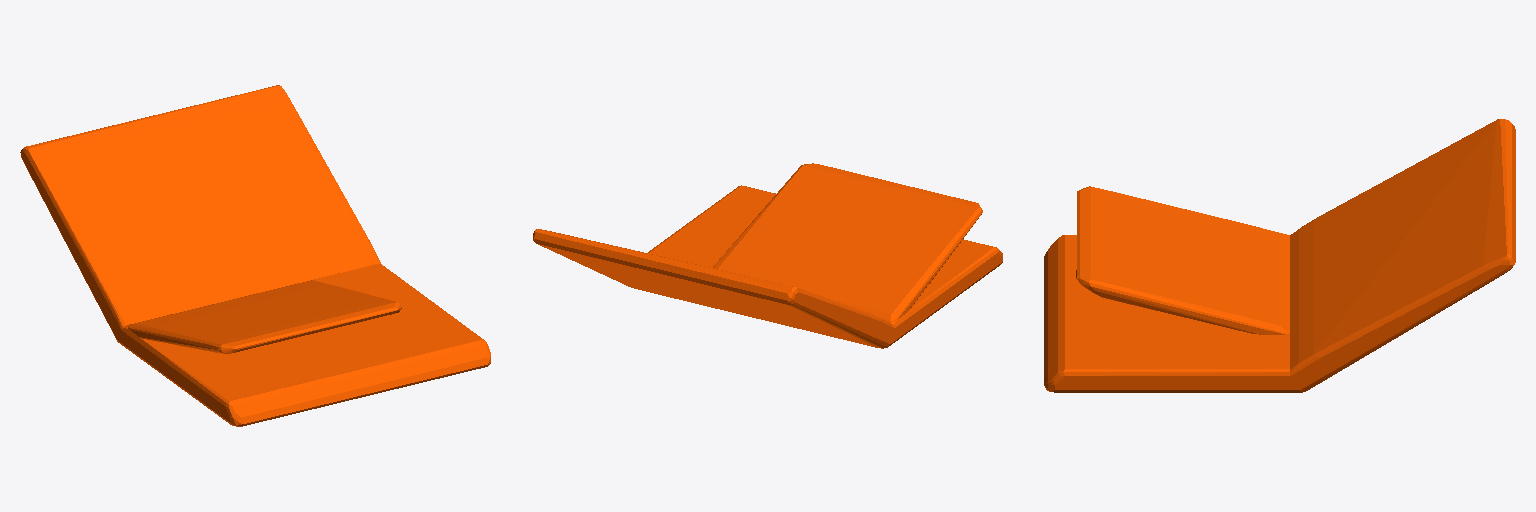
URDF robot description (Gameconsole):
<?xml version="1.0" ?>
<robot name="Gameconsole">
   <material name="obj_color">
      <color rgba="1.0 0.423529411765 0.0392156862745 1.0"/>
   </material>
   <link name="top">
      <inertial>
         <origin rpy="0.0001182815431958271 0.0002311974115326835 0.0003331987775809719" xyz="-0.001596379762805081 -0.001883121164365616 -0.008429769301135757"/>
         <mass value="0.1818902589071879"/>
         <inertia ixx="0.0002310985441430596" ixy="-4.52373902016365e-06" ixz="1.220177501078539e-06" iyy="0.0001306700176943688" iyz="-4.978152028408611e-05" izz="0.0003209091704720541"/>
      </inertial>
      <visual>
         <origin rpy="0 0 0" xyz="0 0 0"/>
         <geometry>
            <mesh filename="top_watertight_tiny.obj" scale="1 1 1"/>
         </geometry>
         <material name="obj_color"/>
      </visual>
      <collision>
         <origin rpy="0 0 0" xyz="0 0 0"/>
         <geometry>
            <mesh filename="top_watertight_tiny.obj" scale="1 1 1"/>
         </geometry>
      </collision>
   </link>
</robot>

--- Facts derived from the render (not from the file) ---
The picture shows the robot from 3 angles, left to right: view 1: azimuth 30°, elevation 25°; view 2: azimuth 150°, elevation 25°; view 3: azimuth 270°, elevation 25°; orthographic projection.
Robot: Gameconsole — 1 links, 0 joints (none); root link top; default pose: all joints at 0.
Links seen in each view (by area): view 1: top; view 2: top; view 3: top.
Boxes of the visible links, left/top/right/bottom form: top: left=20, top=85, right=490, bottom=426; top: left=533, top=163, right=1002, bottom=348; top: left=1044, top=119, right=1515, bottom=392.
Size in the robot's own frame: 0.0877 by 0.1261 by 0.0411 metres.
Meshes: 1 distinct files referenced, 1 mesh visuals loaded (1 OBJ).